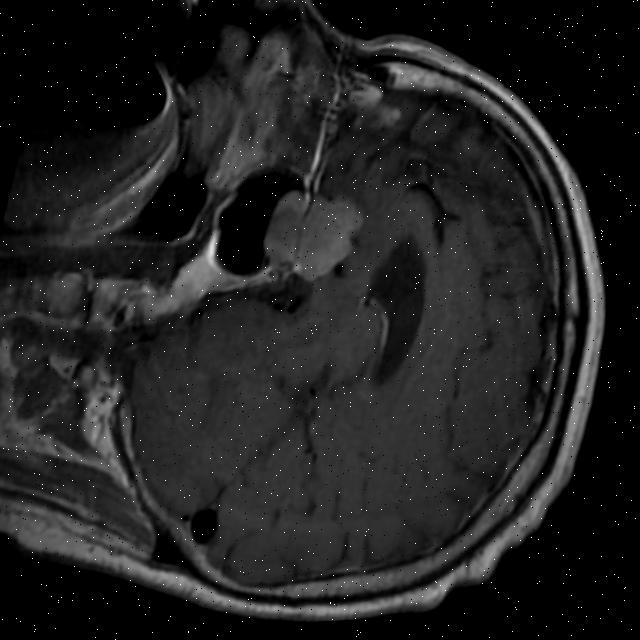Pituitary: (253, 180, 370, 293)
